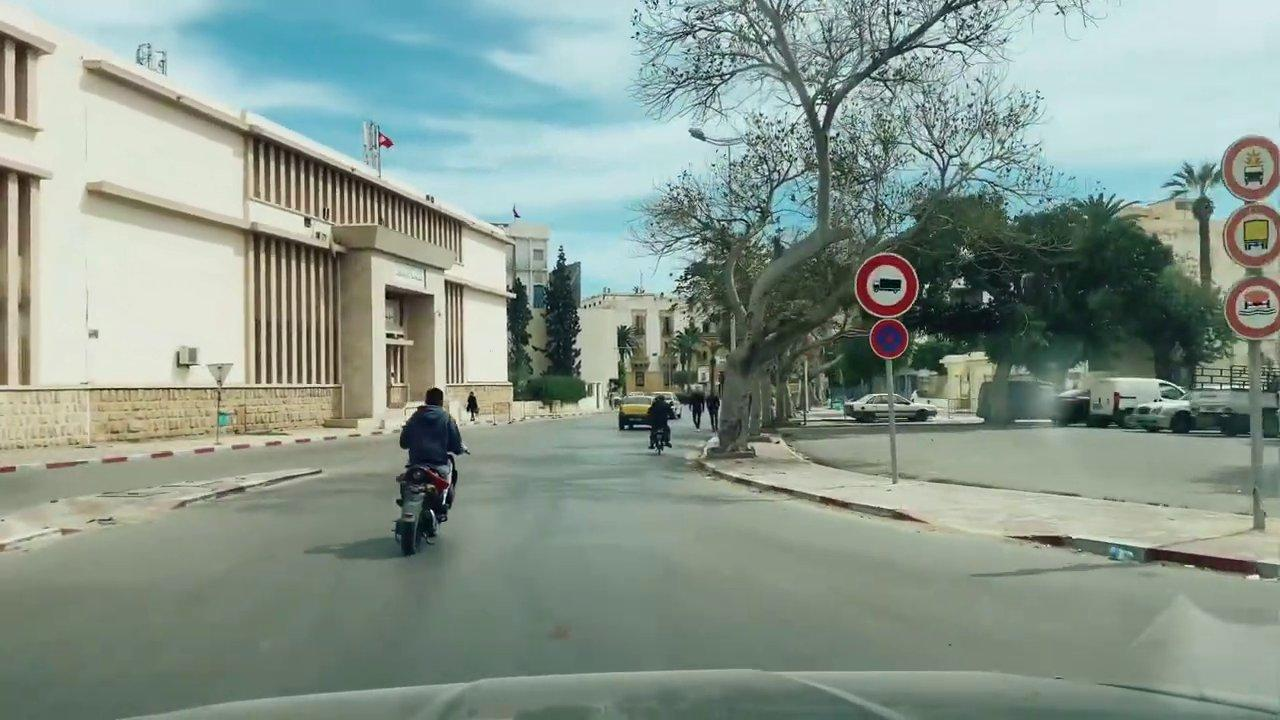no stopping: (870, 319, 909, 362)
no trucks: (853, 250, 920, 319)
no vehicles carrying dangerous goods: (1222, 205, 1280, 267)
no vehicles carrying explosives: (1221, 132, 1280, 204)
no vehicles carrying water pollutants: (1224, 273, 1280, 340)
